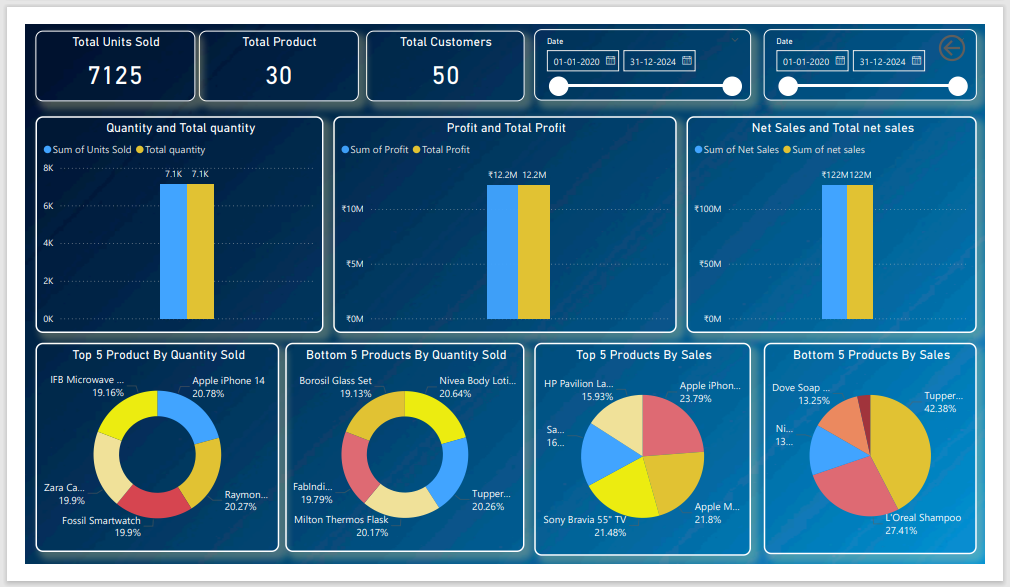

This screenshot's page, from the dashboard's own definition file:
{"tool":"powerbi","page":{"name":"Dashboard 2","canvas":[1280,720],"ordinal":1},"visuals":[{"type":"donutChart","title":"Top 5 Product By Quantity Sold","fields":{"Category":["Dim Product.Product Name"],"Y":["Sum(Fact Table.Units Sold)"]},"box":[14.2,425.2,324.6,279.2],"z":2000},{"type":"donutChart","title":"Bottom 5 Products By Quantity Sold","fields":{"Category":["Dim Product.Product Name"],"Y":["Sum(Fact Table.Units Sold)"]},"box":[347.2,425.2,318.9,279.2],"z":3000},{"type":"slicer","fields":{"Values":["Date Table 1.Date"]},"box":[678.9,7.1,289.1,95],"z":4000},{"type":"slicer","fields":{"Values":["Date Table 2.Date"]},"box":[985,7.1,283.5,95],"z":5000},{"type":"clusteredColumnChart","title":"Net Sales and Total net sales","fields":{"Y":["Sum(Fact Table.Net Sales)","Fact Table.Sum of net sales"]},"box":[881.6,123.3,386.9,289.1],"z":6000},{"type":"clusteredColumnChart","title":" Profit and Total Profit","fields":{"Y":["Sum(Fact Table.Profit)","Fact Table.Total Profit"]},"box":[411,123.3,457.8,289.1],"z":7000},{"type":"clusteredColumnChart","title":"Quantity and Total quantity","fields":{"Y":["Sum(Fact Table.Units Sold)","Fact Table.Total quantity"]},"box":[14.2,123.3,384.1,289.1],"z":8000},{"type":"card","title":"Total Customers","fields":{"Values":["CountNonNull(Dim Customers.Customer ID)"]},"box":[455,8.5,211.2,95],"z":9000},{"type":"actionButton","box":[1213.2,8.5,62.4,46.8],"z":10000},{"type":"card","title":"Total Product","fields":{"Values":["CountNonNull(Dim Product.ProductID)"]},"box":[232.4,8.5,212.6,95],"z":11000},{"type":"card","title":"Total Units Sold","fields":{"Values":["Sum(Fact Table.Units Sold)"]},"box":[14.2,8.5,212.6,95],"z":12000},{"type":"pieChart","title":"Top 5 Products By Sales","fields":{"Category":["Dim Product.Product Name"],"Y":["Sum(Fact Table.Net Sales)"]},"box":[678.9,425.2,289.1,283.5],"z":12001},{"type":"pieChart","title":"Bottom 5 Products By Sales","fields":{"Category":["Dim Product.Product Name"],"Y":["Sum(Fact Table.Net Sales)"]},"box":[985,425.2,283.5,282],"z":12002}]}

Visuals, with their boxes in screenshot pixels (x1, y1, x2, y2):
"Top 5 Product By Quantity Sold" donutChart: 34, 340, 278, 550
"Bottom 5 Products By Quantity Sold" donutChart: 284, 340, 524, 550
slicer - Date Table 1.Date: 533, 26, 750, 98
slicer - Date Table 2.Date: 763, 26, 976, 98
"Net Sales and Total net sales" clusteredColumnChart: 685, 114, 976, 331
" Profit and Total Profit" clusteredColumnChart: 332, 114, 676, 331
"Quantity and Total quantity" clusteredColumnChart: 34, 114, 323, 331
"Total Customers" card: 365, 27, 524, 99
actionButton: 934, 27, 981, 63
"Total Product" card: 198, 27, 358, 99
"Total Units Sold" card: 34, 27, 194, 99
"Top 5 Products By Sales" pieChart: 533, 340, 750, 553
"Bottom 5 Products By Sales" pieChart: 763, 340, 976, 552
